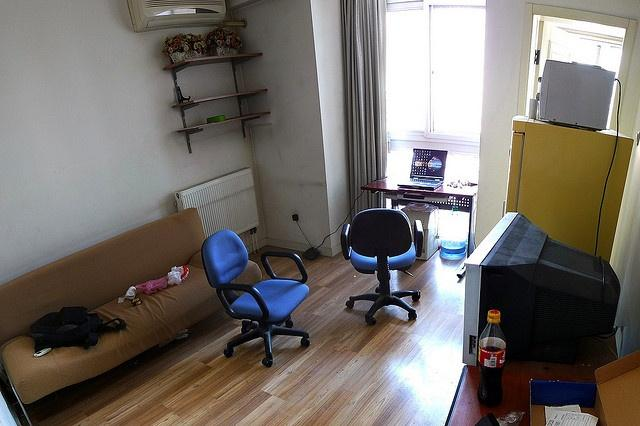AC: (124, 0, 226, 31)
Kursi: (200, 229, 312, 366), (340, 206, 422, 325)
